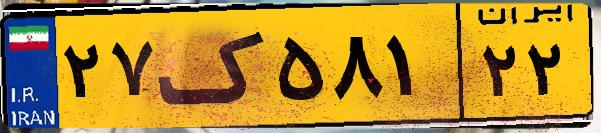1: (385, 28, 445, 110)
2: (57, 26, 110, 100), (475, 38, 525, 113), (525, 38, 570, 115)
5: (270, 28, 330, 110)
7: (110, 28, 158, 98)
8: (330, 28, 385, 110)
ک: (158, 12, 270, 120)
